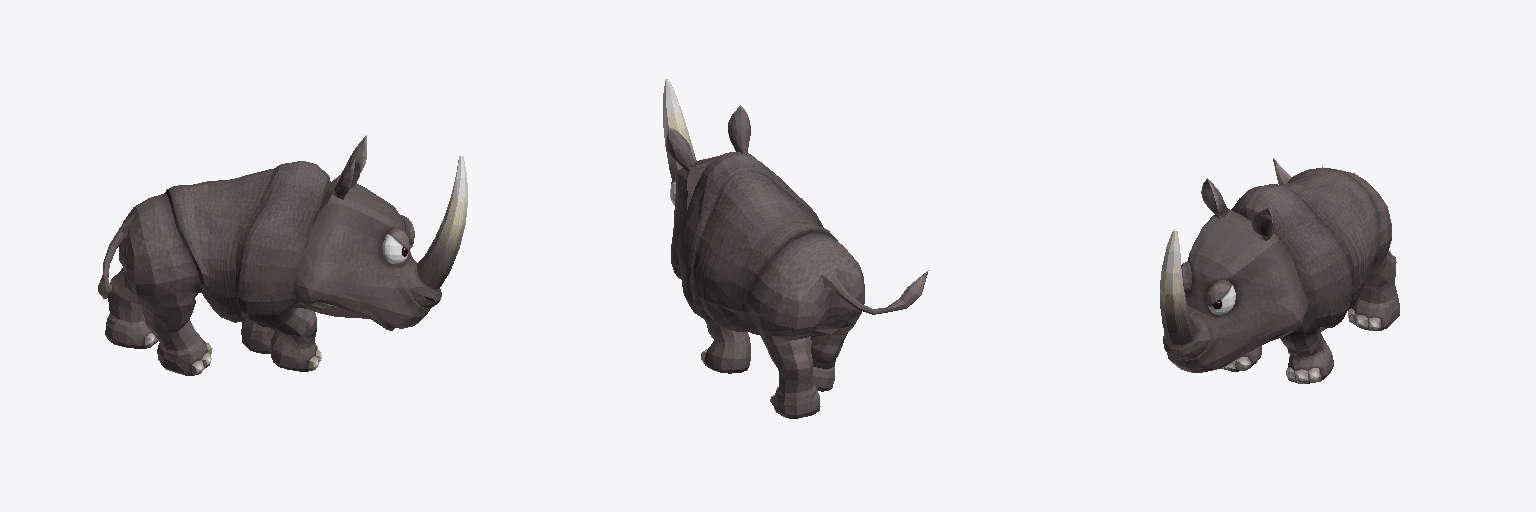
3 renders of one model, left to right at view 1: azimuth 30°, elevation 25°; view 2: azimuth 150°, elevation 25°; view 3: azimuth 270°, elevation 25°, orthographic.
Visible parts, largest first — view 1: polygon7, polygon4, polygon9, polygon10, polygon8, polygon1, polygon6, polygon0, polygon11; view 2: polygon7, polygon10, polygon9, polygon8, polygon6, polygon4, polygon1, polygon11; view 3: polygon4, polygon7, polygon9, polygon8, polygon1, polygon10, polygon16, polygon5.
Part boxes in pixels (x1,y1,x2,y2): polygon7: (164, 161, 331, 326); polygon4: (293, 178, 441, 330); polygon9: (105, 268, 212, 375); polygon10: (119, 194, 202, 295); polygon8: (241, 307, 321, 371); polygon1: (417, 156, 467, 289); polygon6: (330, 135, 366, 199); polygon0: (382, 228, 409, 264); polygon11: (98, 227, 125, 298); polygon7: (677, 152, 837, 332); polygon10: (747, 234, 864, 335); polygon9: (753, 313, 861, 418); polygon8: (701, 319, 759, 373); polygon6: (666, 105, 750, 170); polygon4: (671, 153, 756, 278); polygon1: (663, 79, 696, 178); polygon11: (829, 270, 928, 314); polygon4: (1163, 211, 1308, 372); polygon7: (1231, 167, 1379, 335); polygon9: (1320, 250, 1399, 331); polygon8: (1220, 328, 1333, 383); polygon1: (1160, 229, 1194, 345); polygon10: (1329, 168, 1391, 262); polygon16: (1206, 279, 1235, 314); polygon5: (1201, 179, 1272, 238).
Bounding box in the file's own units: 16.82 × 11.12 × 11.16.
17 materials, 16 textured.